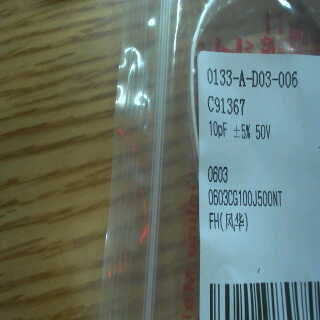10pF: (204, 119, 232, 139)
